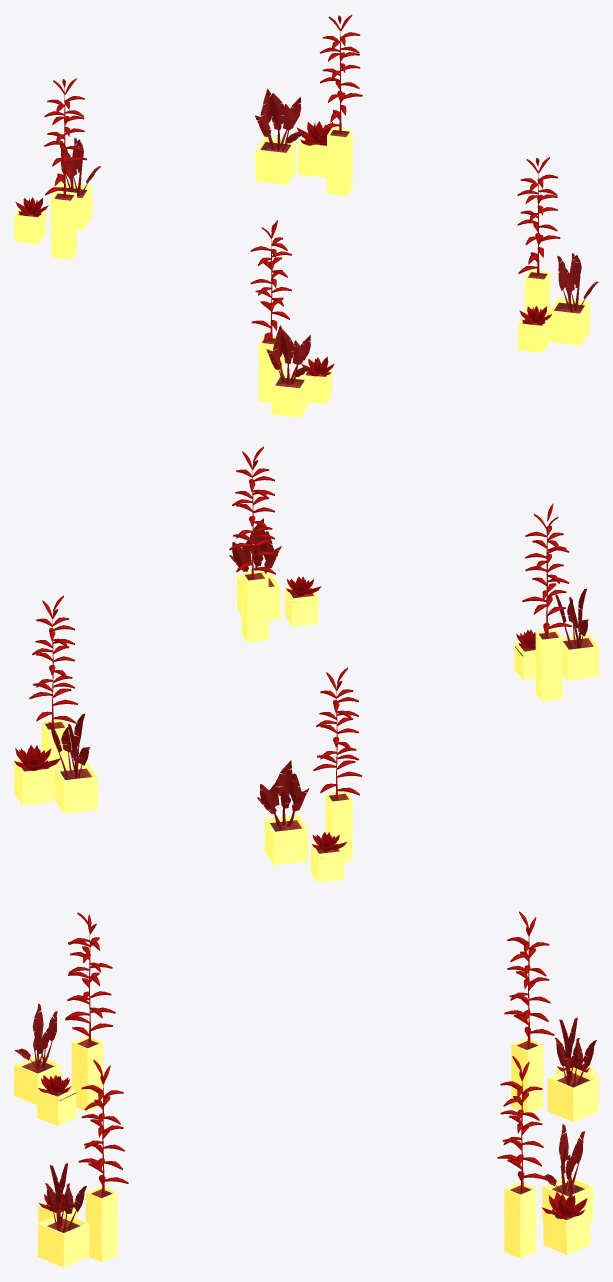
The model's file is gardenred.glb.
The picture shows the model from 3 angles, top to bottom: view 1: azimuth 30°, elevation 25°; view 2: azimuth 150°, elevation 25°; view 3: azimuth 270°, elevation 25°; orthographic projection. The views are drawn at different scales.
Parts seen in each view (by area): view 1: Cube.014, Cube.011, FlowerPot4.003, Cube.004, Cube.013, Plant2.003, Plant2.001, Plant2.004, Plant2.002, FlowerPot4.001, Cube.007, Cube.008 (+8 smaller); view 2: Plant2.001, Cube.005, Cube.008, Plant2.003, Plant2.004, Plant2.002, Cube.010, Cube.013, FlowerPot4.002, Cube.012, Cube.011, Cube.007 (+9 smaller); view 3: Cube.014, Cube.005, Cube.010, Cube.004, Cube.008, Cube.011, Plant2.002, Cube.012, Plant2.003, Plant2.001, Plant2.004, FlowerPot4 (+7 smaller).
Boxes of the visible parts, x1,y1,x2,y2 form: Cube.014: (327, 127, 352, 195); Cube.011: (51, 190, 76, 259); FlowerPot4.003: (255, 88, 304, 150); Cube.004: (548, 297, 589, 345); Cube.013: (255, 136, 296, 184); Plant2.003: (44, 78, 86, 197); Plant2.001: (517, 157, 560, 276); Plant2.004: (319, 14, 362, 133); Plant2.002: (250, 220, 291, 342); FlowerPot4.001: (266, 325, 310, 384); Cube.007: (271, 373, 308, 417); Cube.008: (258, 334, 284, 402); Plant2.001: (229, 446, 277, 578); Cube.005: (241, 570, 268, 642); Cube.008: (535, 629, 562, 701); Plant2.003: (313, 667, 361, 799); Plant2.004: (29, 595, 77, 727); Plant2.002: (522, 503, 571, 637); Cube.010: (264, 814, 307, 865); Cube.013: (54, 763, 97, 813); FlowerPot4.002: (257, 760, 309, 829); Cube.012: (14, 758, 53, 805); Cube.011: (325, 791, 352, 861); Cube.007: (562, 633, 598, 680); Cube.014: (504, 1182, 536, 1258); Cube.005: (85, 1185, 117, 1261); Cube.010: (547, 1067, 598, 1122); Cube.004: (38, 1213, 89, 1267); Cube.008: (71, 1036, 103, 1111); Cube.011: (511, 1037, 543, 1112); Plant2.002: (65, 912, 115, 1045); Cube.012: (543, 1208, 590, 1254); Plant2.003: (504, 911, 554, 1047); Plant2.001: (78, 1059, 128, 1195); Plant2.004: (497, 1056, 547, 1192); FlowerPot4: (45, 1163, 86, 1232).
Bounding box in the file's own units: 26.45 × 13.49 × 35.76.
5 materials, 2 textured.
